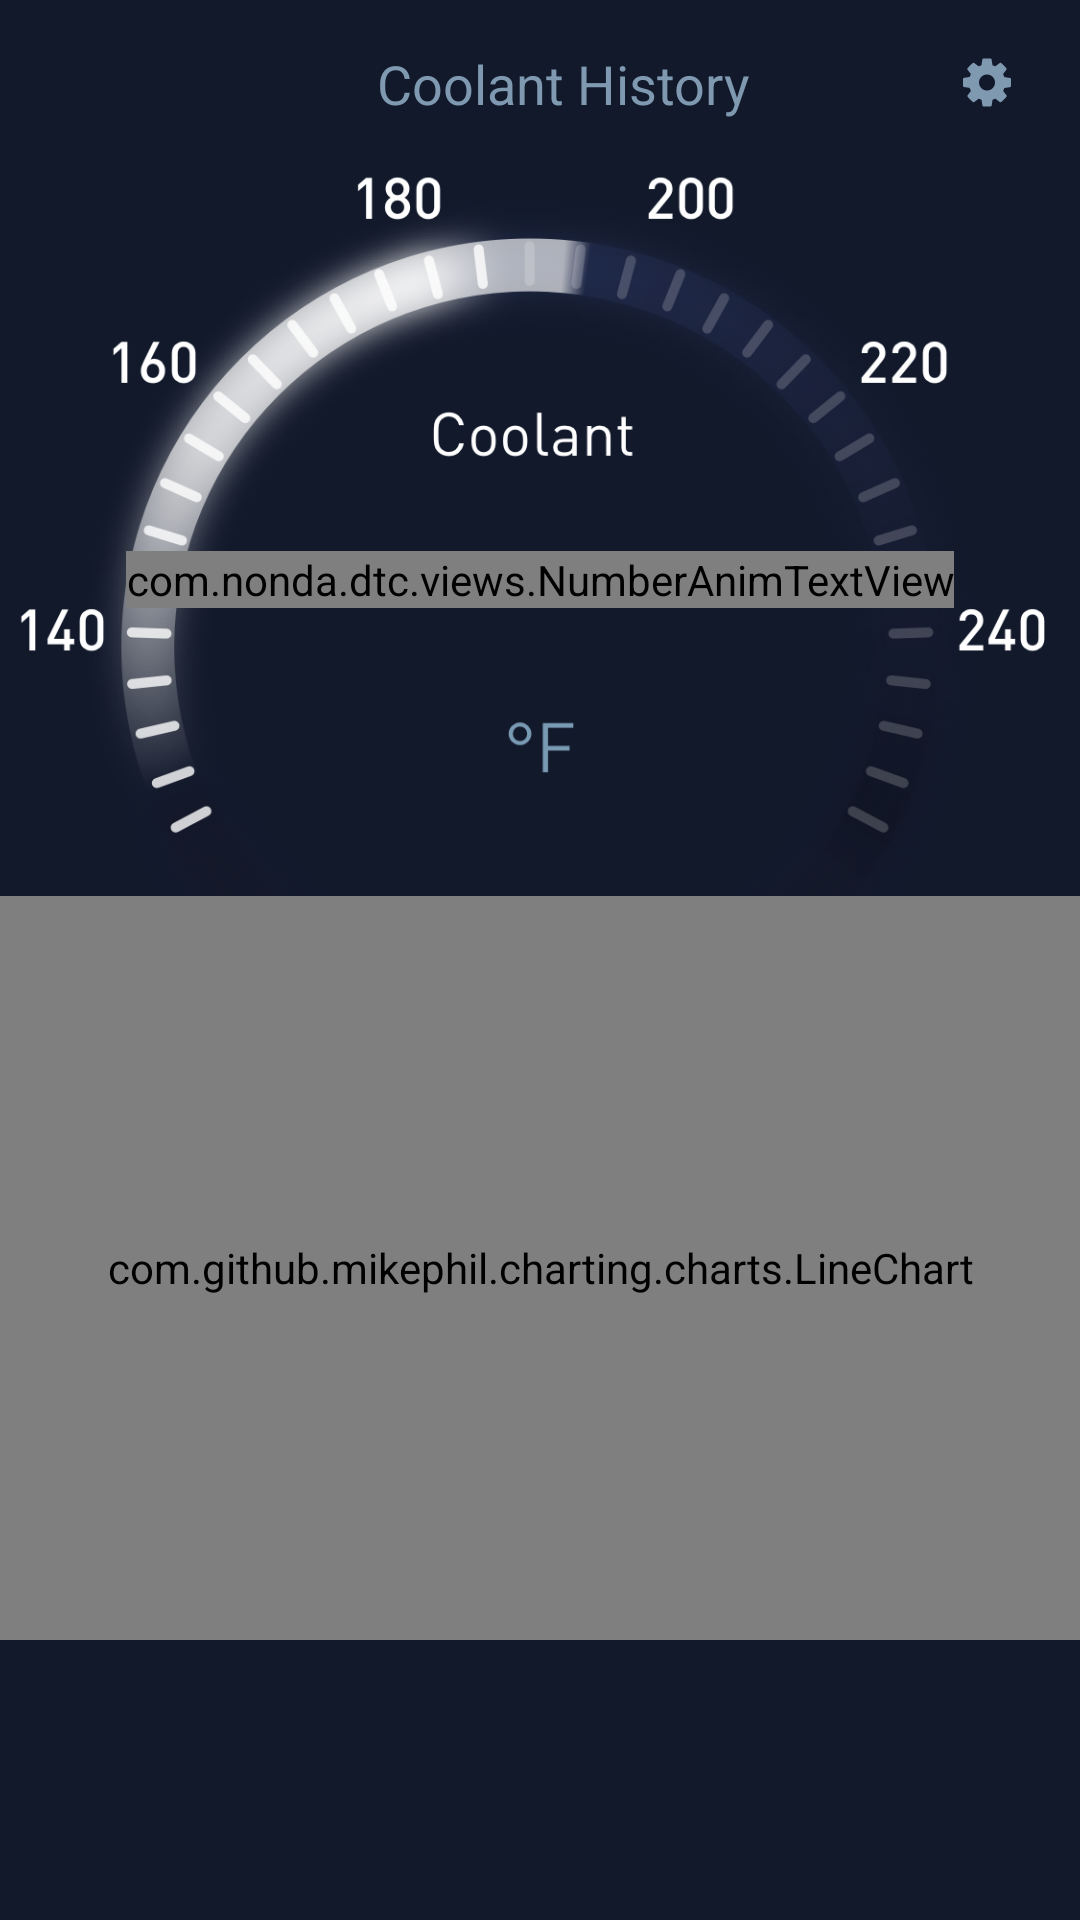

Icon bounding boxes for this 1080px x 1920px phone screenshot, format (x1, y1, x2, y2):
set: (963, 58, 1011, 107)
